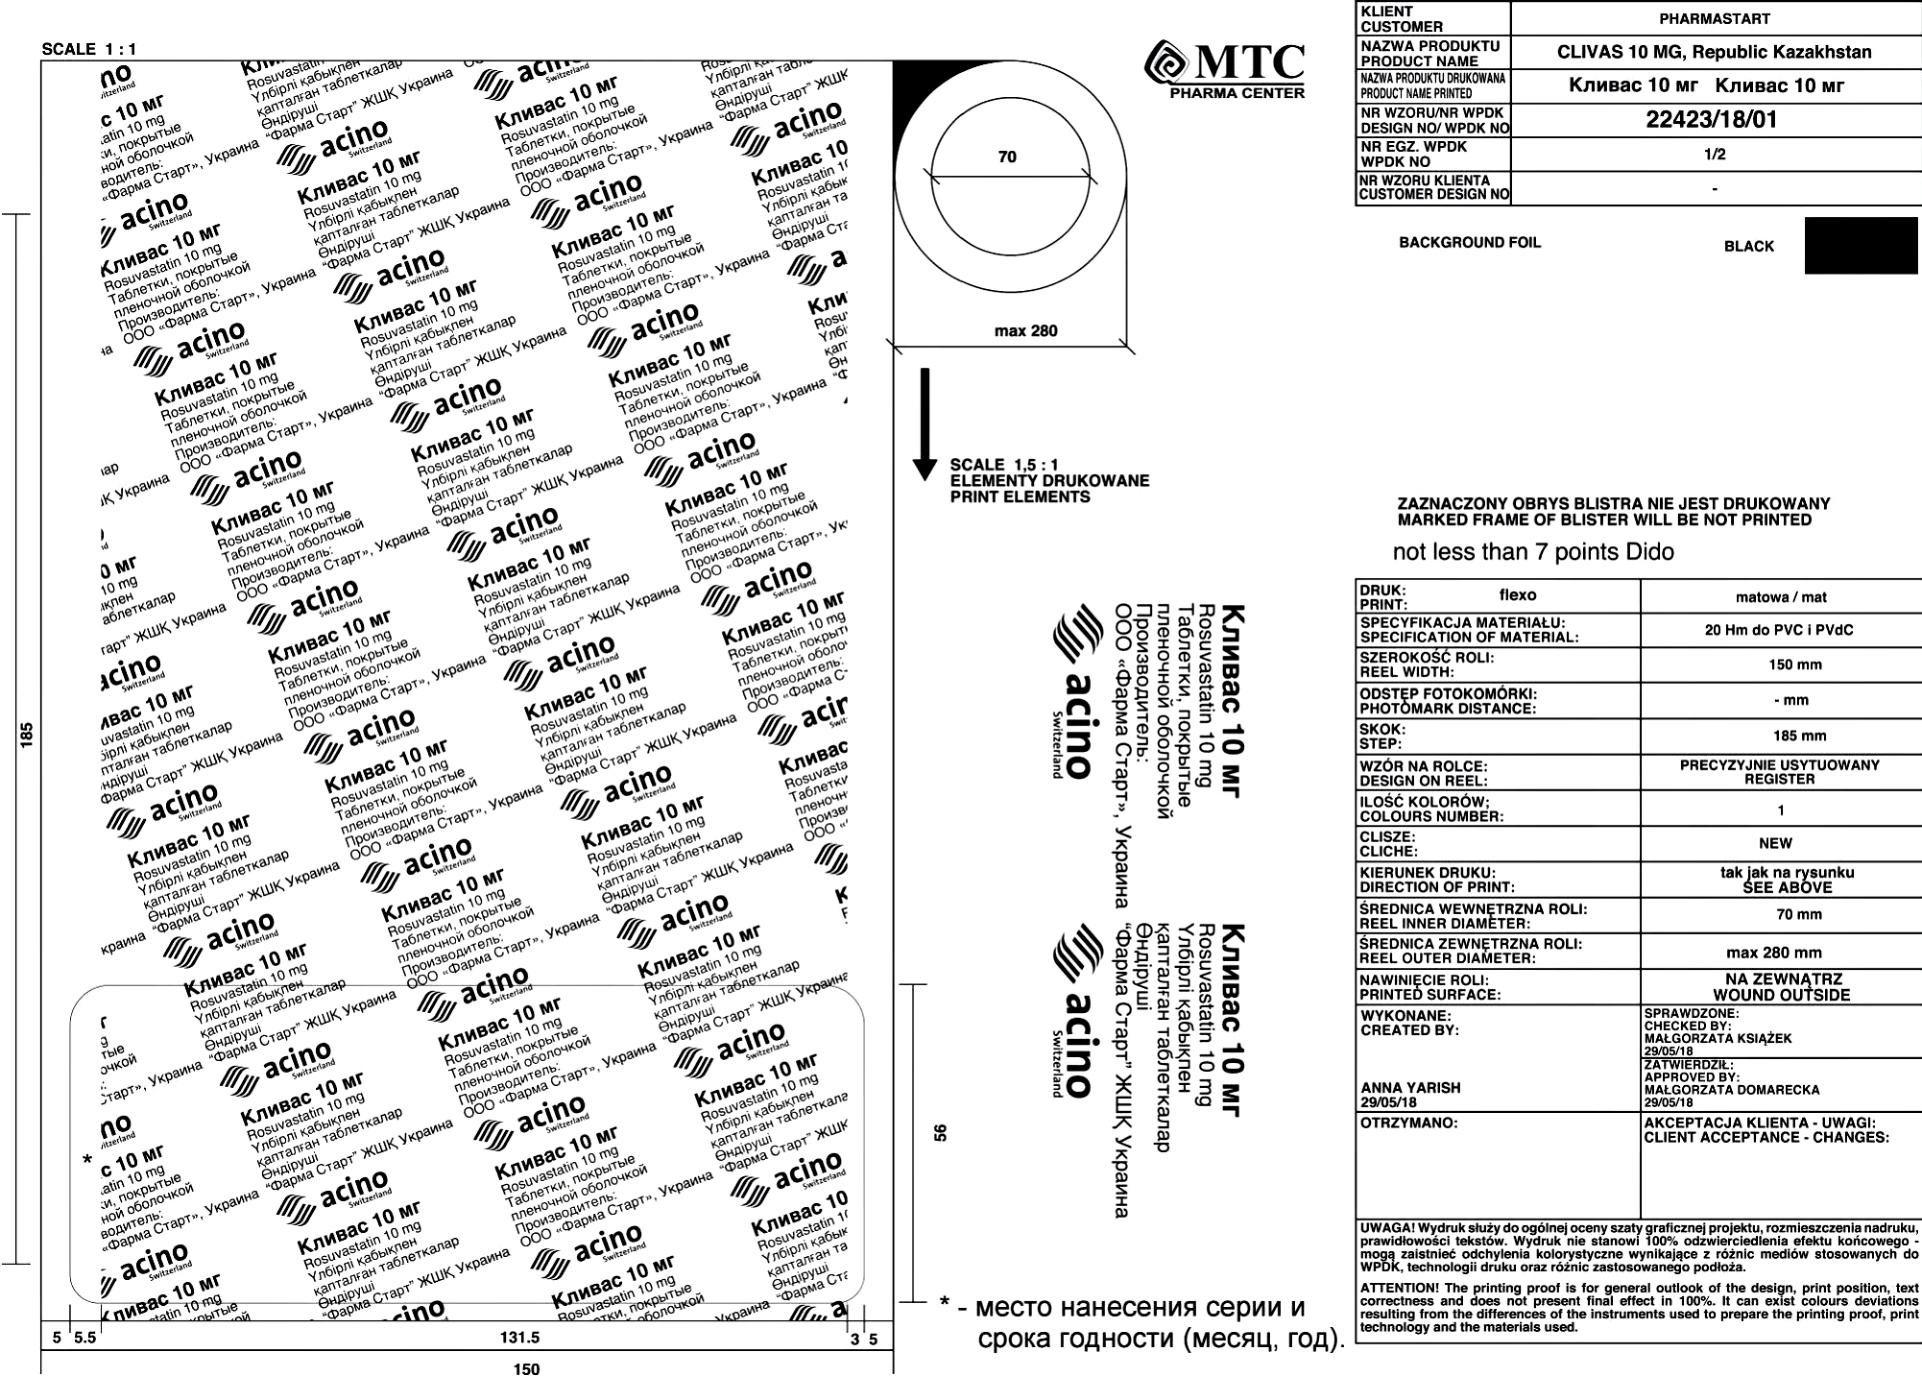full_lined: (1353, 1, 1921, 209)
merged_cells: (1353, 577, 1921, 1346)
